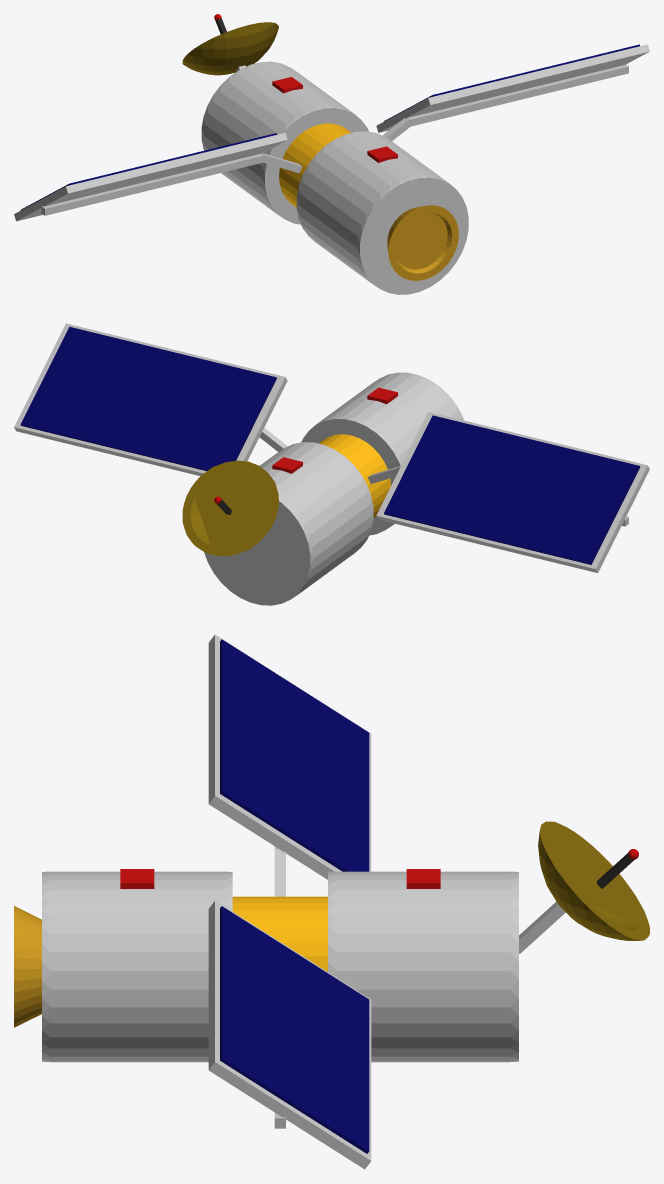
File: satellite.obj
The picture shows the model from 3 angles, top to bottom: view 1: azimuth 30°, elevation 25°; view 2: azimuth 150°, elevation 25°; view 3: azimuth 270°, elevation 25°; orthographic projection. The views are drawn at different scales.
Parts seen in each view (by area): view 1: Cylinder, Cylinder.002, Cone, Cube.008_Cube.010, Cube.006_Cube.008, Sphere, Cube.005_Cube.006, Cube.004_Cube.005, Cylinder.001, Cube.009_Cube.011, Cube.007_Cube.009; view 2: Cube.009_Cube.011, Cube.007_Cube.009, Cylinder.002, Cylinder, Sphere, Cube.008_Cube.010, Cube.006_Cube.008, Cylinder.001; view 3: Cylinder.002, Cylinder, Cube.007_Cube.009, Cube.009_Cube.011, Sphere, Cube.006_Cube.008, Cube.008_Cube.010, Cylinder.001, Cone, Cube.
Part boxes in pixels (x1,y1,x2,y2): Cylinder: [296, 131, 468, 294]; Cylinder.002: [201, 61, 368, 224]; Cone: [387, 205, 458, 280]; Cube.008_Cube.010: [14, 132, 287, 221]; Cube.006_Cube.008: [376, 44, 649, 132]; Sphere: [182, 22, 278, 75]; Cube.005_Cube.006: [41, 153, 264, 215]; Cube.004_Cube.005: [408, 64, 628, 126]; Cylinder.001: [279, 123, 351, 207]; Cube.009_Cube.011: [20, 133, 276, 210]; Cube.007_Cube.009: [384, 44, 639, 121]; Cube.009_Cube.011: [384, 415, 640, 564]; Cube.007_Cube.009: [20, 326, 276, 470]; Cylinder.002: [204, 442, 373, 605]; Cylinder: [301, 372, 463, 535]; Sphere: [182, 460, 278, 555]; Cube.008_Cube.010: [376, 412, 649, 572]; Cube.006_Cube.008: [14, 323, 287, 476]; Cylinder.001: [319, 434, 391, 517]; Cylinder.002: [328, 871, 518, 1062]; Cylinder: [42, 871, 232, 1062]; Cube.007_Cube.009: [220, 906, 369, 1153]; Cube.009_Cube.011: [220, 639, 369, 871]; Sphere: [538, 821, 649, 940]; Cube.006_Cube.008: [208, 900, 371, 1169]; Cube.008_Cube.010: [208, 634, 371, 879]; Cylinder.001: [232, 896, 327, 971]; Cone: [14, 906, 41, 1027]; Cube: [519, 901, 565, 953].
Size of the model in its own units: 10.64 by 2.57 by 6.67.
